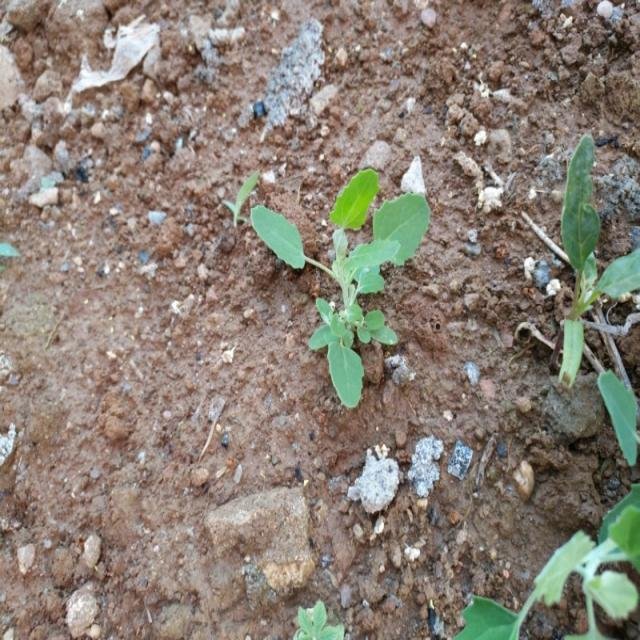ca: (250, 170, 432, 410)
